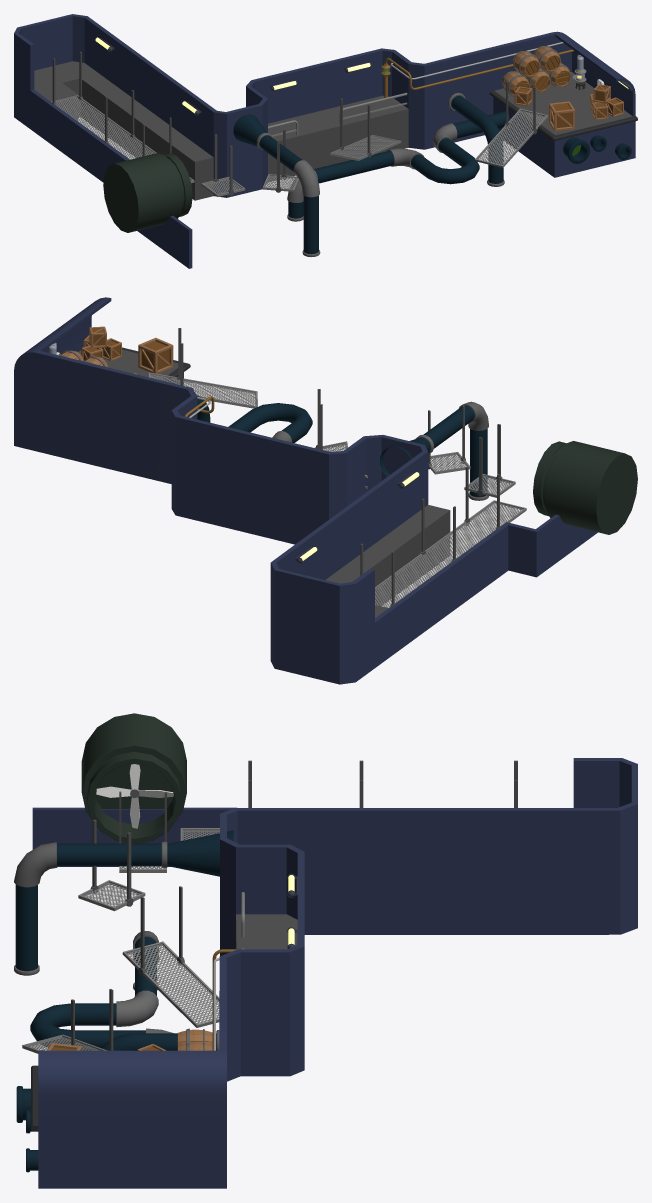
Rendered from Room3.fbx.
3 renders of one model, top to bottom at view 1: azimuth 30°, elevation 25°; view 2: azimuth 150°, elevation 25°; view 3: azimuth 270°, elevation 25°, orthographic. The views are drawn at different scales.
Visible parts, largest first — view 1: Area1.2 Platform 1.002, Cylinder.077, Pipe .005, Pipe .007, Mesh Flooring 1.003, Mesh Flooring 1.001, Pipe .006, Mesh Flooring 1.002, crate.005, Cylinder.063, barrel.004, Pipe .002 (+10 smaller); view 2: Area1.2 Platform 1.002, Cylinder.077, Mesh Flooring 1.001, Pipe .007, Pipe .005, Mesh Flooring 1.003, crate.005, Cube.034, Cube.036, Cube.035; view 3: Area1.2 Platform 1.002, Cylinder.077, Pipe .007, Pipe .005, Mesh Flooring 1.002, Pipe .006, Area3_fan2.024, Cube.036, Cylinder.064.
Part boxes in pixels (bbox=[...]): Area1.2 Platform 1.002: bbox=[14, 14, 637, 268]; Cylinder.077: bbox=[103, 153, 192, 232]; Pipe .005: bbox=[287, 111, 510, 221]; Pipe .007: bbox=[233, 114, 320, 256]; Mesh Flooring 1.003: bbox=[475, 108, 548, 167]; Mesh Flooring 1.001: bbox=[55, 96, 191, 180]; Pipe .006: bbox=[448, 92, 504, 186]; Mesh Flooring 1.002: bbox=[330, 135, 401, 160]; crate.005: bbox=[549, 101, 574, 131]; Cylinder.063: bbox=[381, 49, 573, 97]; barrel.004: bbox=[512, 51, 540, 76]; Pipe .002: bbox=[563, 137, 589, 163]; Area1.2 Platform 1.002: bbox=[14, 297, 597, 684]; Cylinder.077: bbox=[533, 441, 637, 534]; Mesh Flooring 1.001: bbox=[375, 502, 522, 607]; Pipe .007: bbox=[380, 401, 488, 500]; Pipe .005: bbox=[228, 403, 312, 442]; Mesh Flooring 1.003: bbox=[148, 372, 257, 408]; crate.005: bbox=[138, 337, 173, 373]; Cube.034: bbox=[375, 500, 526, 607]; Cube.036: bbox=[429, 452, 470, 474]; Cube.035: bbox=[464, 474, 515, 497]; Area1.2 Platform 1.002: bbox=[31, 758, 637, 1188]; Cylinder.077: bbox=[81, 713, 186, 843]; Pipe .007: bbox=[14, 830, 233, 975]; Pipe .005: bbox=[30, 931, 173, 1050]; Mesh Flooring 1.002: bbox=[122, 941, 219, 1027]; Pipe .006: bbox=[101, 1030, 219, 1050]; Area3_fan2.024: bbox=[96, 764, 173, 828]; Cube.036: bbox=[78, 880, 145, 911]; Cylinder.064: bbox=[138, 886, 184, 975].
Size of the model in its own units: 11251 by 2200 by 8520.
